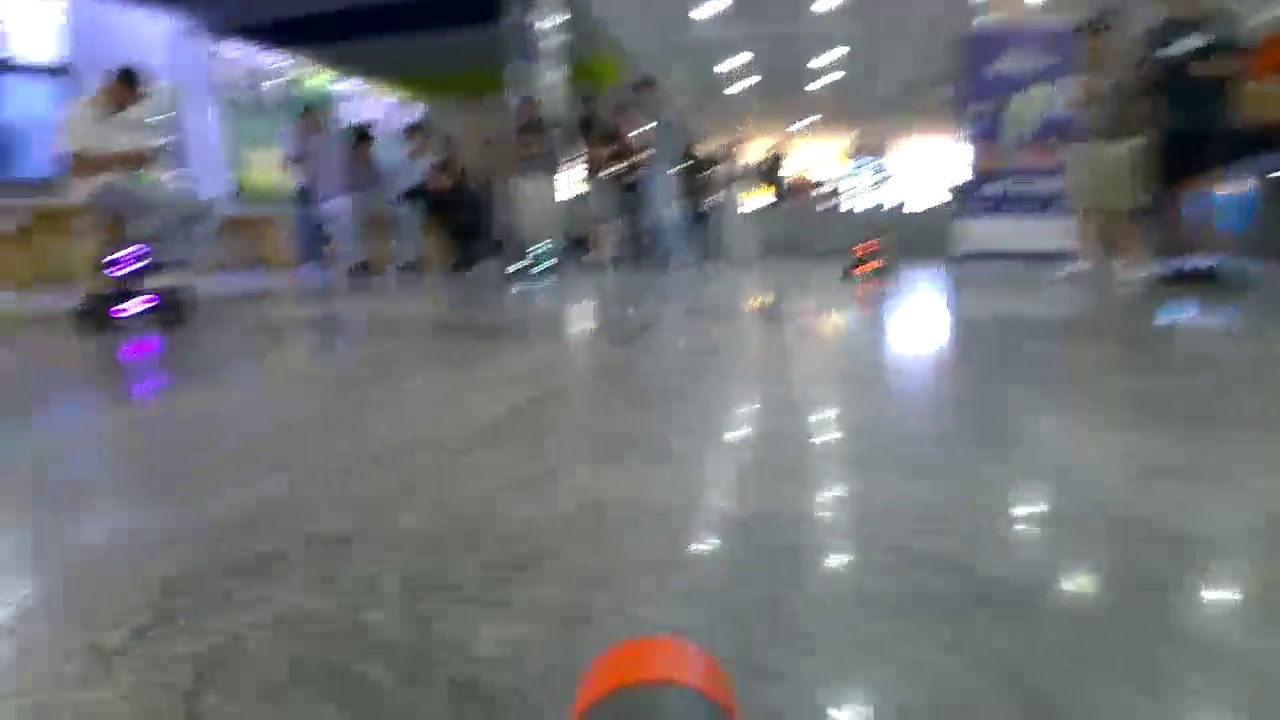robot: (78, 245, 188, 320), (830, 229, 900, 275), (499, 245, 561, 279)
